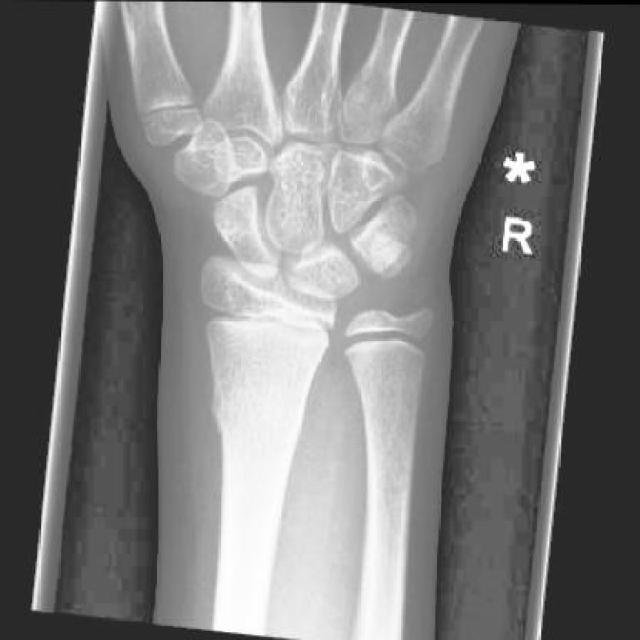Fracture: (208, 377, 314, 438)
